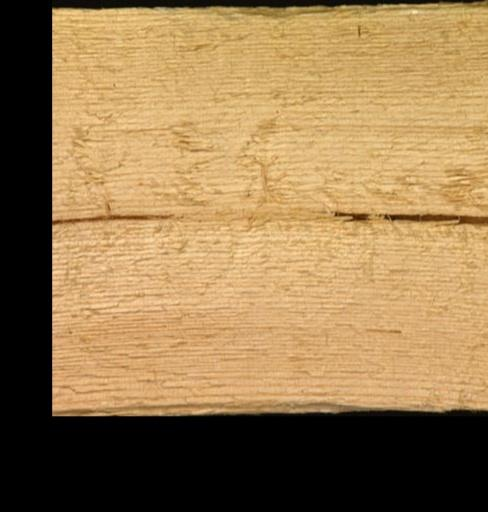wave: (104, 392, 366, 414)
